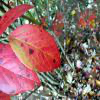Blueberry leaf: (8, 23, 63, 73), (0, 44, 43, 93), (0, 4, 36, 31)
